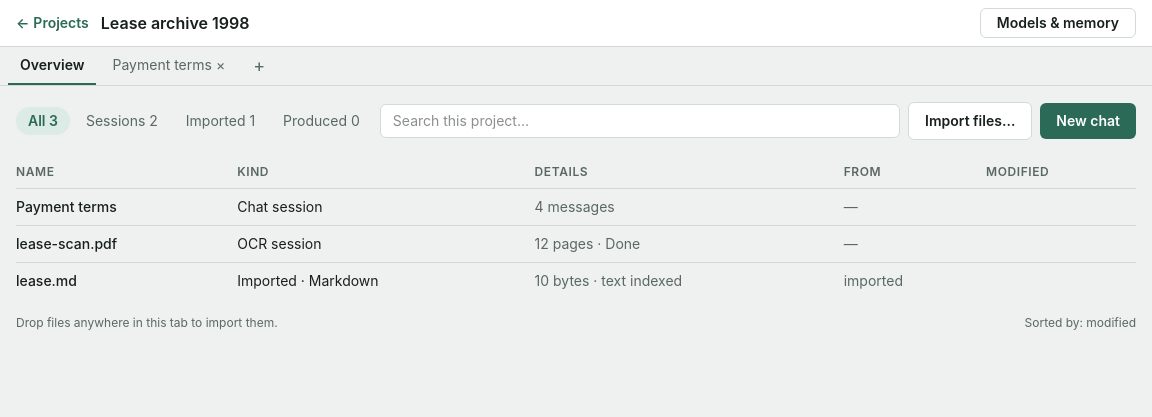
The + in the tab bar › says why when the chat can't be created, and leaves the tabs as they were
The width and height of the screenshot is (1152, 417).
Click the button named "New chat" at (259, 66), box [241,47,277,85]
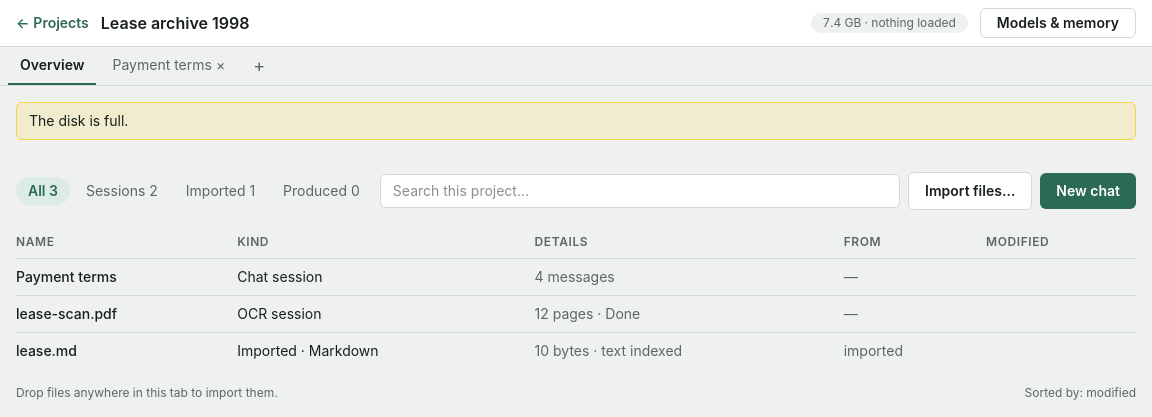
Expected: the tabs read "Overview", "Payment terms", in this order, [20,55,84,75]; [112,55,212,75]
Now the text "The disk is full." is shown, box [16,102,1136,140]
